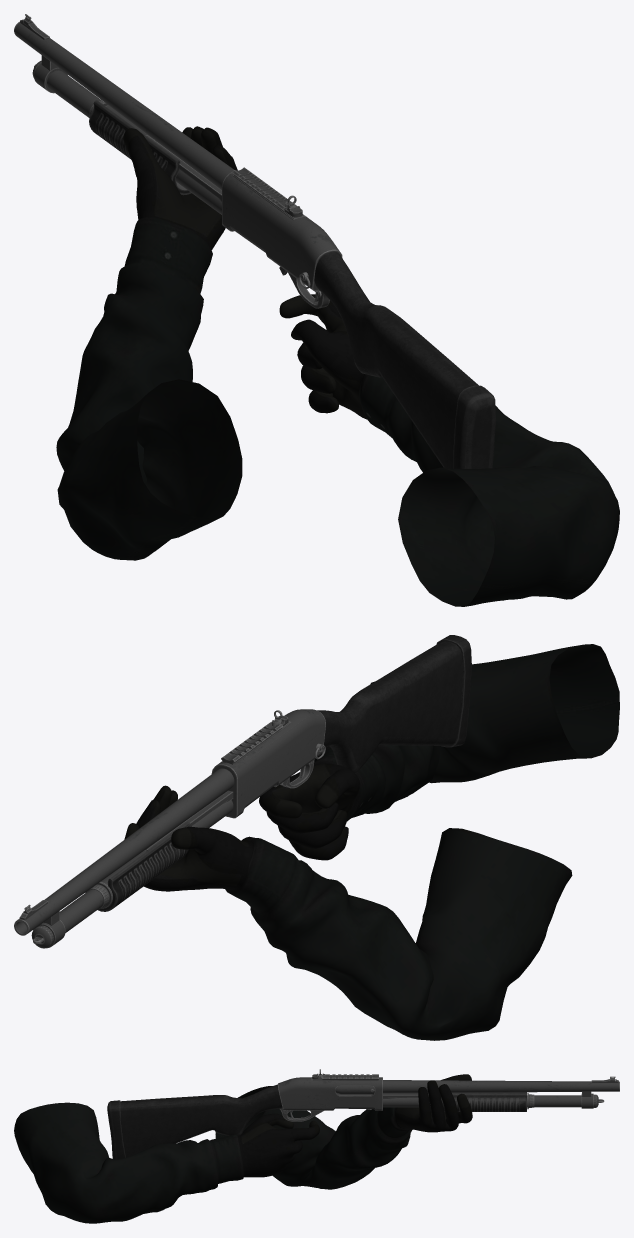
The model's file is weapon_shotgun.glb.
3 views of the same model, one above another, from view 1: azimuth 30°, elevation 25°; view 2: azimuth 150°, elevation 25°; view 3: azimuth 270°, elevation 25° (orthographic). The views are drawn at different scales.
Visible parts, largest first — view 1: ShotgunArms, ShotgunReceiver, ShotgunPumpForend; view 2: ShotgunArms, ShotgunReceiver, ShotgunPumpForend; view 3: ShotgunArms, ShotgunReceiver, ShotgunPumpForend.
Part boxes in pixels (x1,y1,x2,y2): ShotgunArms: (56,126,619,606); ShotgunReceiver: (14,14,496,468); ShotgunPumpForend: (89,100,191,195); ShotgunArms: (124,644,619,1040); ShotgunReceiver: (14,635,471,948); ShotgunPumpForend: (85,821,190,911); ShotgunArms: (14,1074,472,1223); ShotgunReceiver: (107,1069,619,1159); ShotgunPumpForend: (441,1092,534,1111).
Size of the model in its own units: 0.456 by 0.3795 by 1.25.
Materials: 2 (2 with a texture image).
